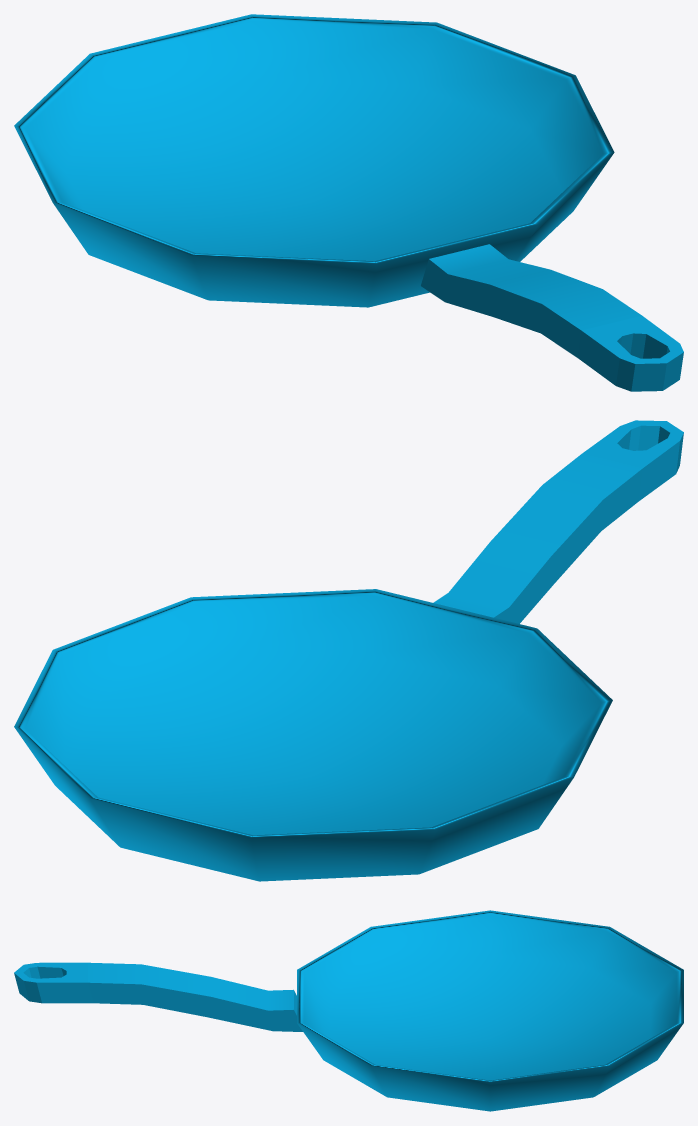
The model's file is Pancake_Stove_01_Lod1.fbx.
3 views of the same model, one above another, from view 1: azimuth 30°, elevation 25°; view 2: azimuth 150°, elevation 25°; view 3: azimuth 270°, elevation 25° (orthographic). The views are drawn at different scales.
Visible parts, largest first — view 1: Pancake_Stove_01_Lod1; view 2: Pancake_Stove_01_Lod1; view 3: Pancake_Stove_01_Lod1.
Part boxes in pixels (box(x1,y1,x2,y2)): Pancake_Stove_01_Lod1: box(14, 14, 683, 391); Pancake_Stove_01_Lod1: box(14, 420, 683, 881); Pancake_Stove_01_Lod1: box(14, 910, 683, 1111).
Size of the model in its own units: 40.15 by 7.35 by 66.09.
